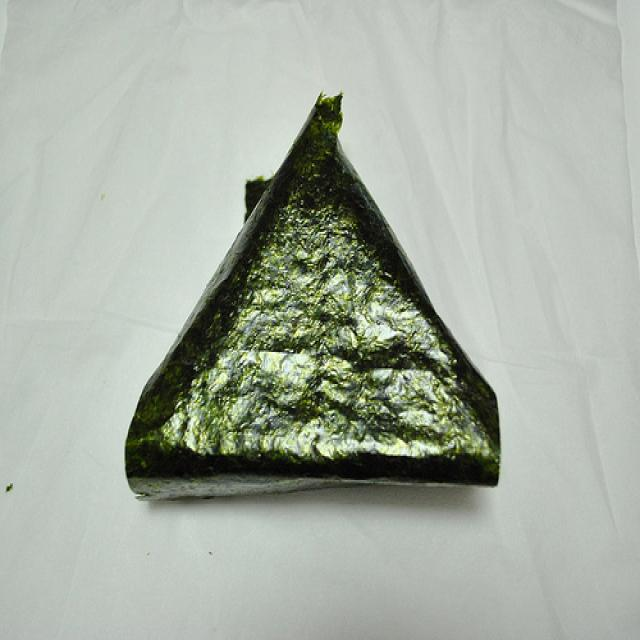米饭主食: (116, 86, 510, 508)
